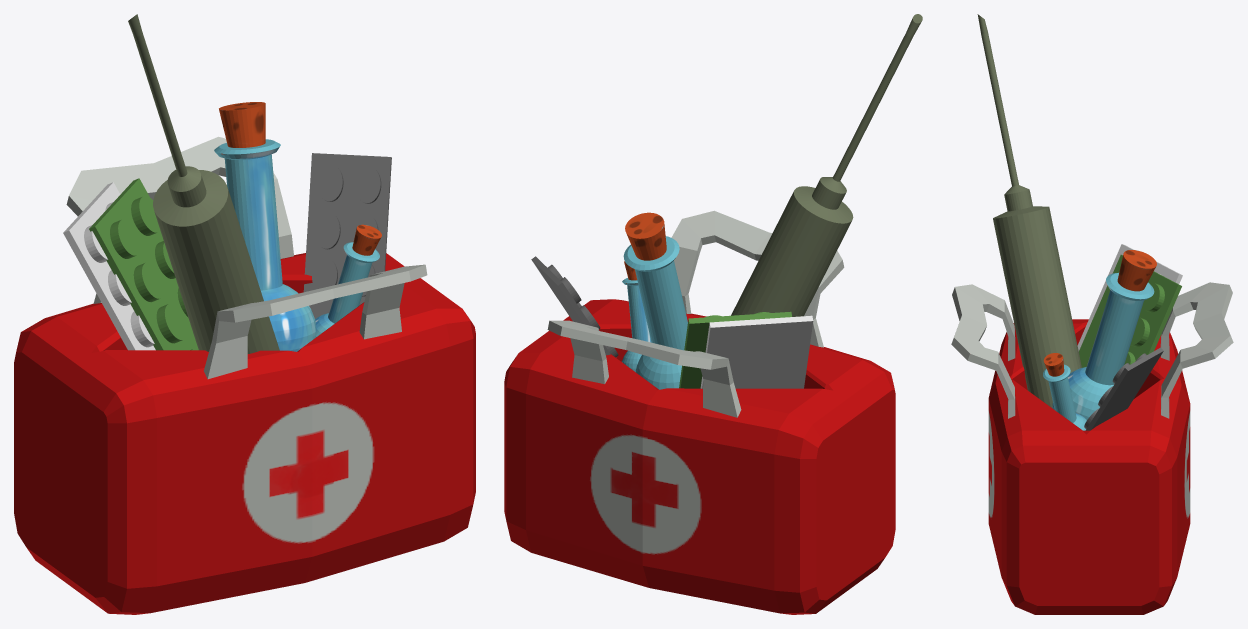
File: medkit.fbx
3 renders of one model, left to right at view 1: azimuth 30°, elevation 25°; view 2: azimuth 150°, elevation 25°; view 3: azimuth 270°, elevation 25°, orthographic. The views are drawn at different scales.
Parts seen in each view (by area): view 1: Cube.002; view 2: Cube.002; view 3: Cube.002.
Part boxes in pixels (left/top/right/bottom): Cube.002: left=14, top=14, right=475, bottom=614; Cube.002: left=504, top=14, right=922, bottom=614; Cube.002: left=951, top=14, right=1233, bottom=614.
Size of the model in its own units: 325 by 529 by 284.
